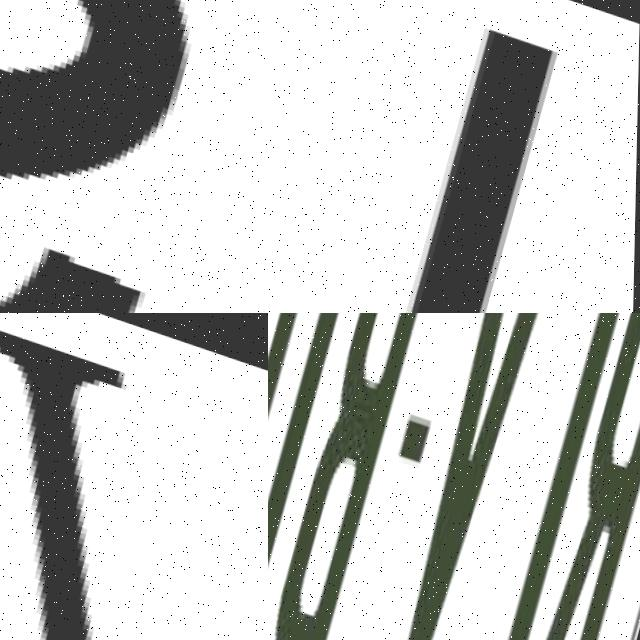B: (268, 313, 460, 640)
D: (268, 313, 387, 640)
J: (0, 313, 268, 640)
L: (444, 313, 640, 640)
R: (500, 313, 640, 640)
S: (0, 0, 256, 313)
U: (268, 0, 572, 313)
V: (353, 313, 569, 640)
